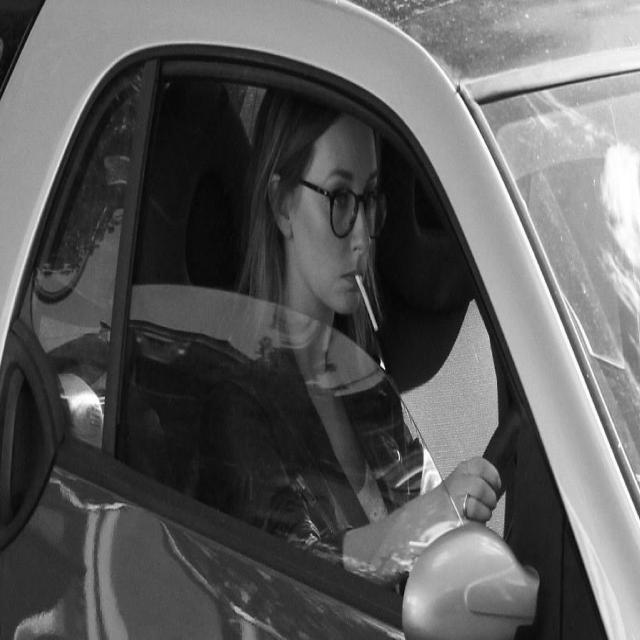Cigarette: (352, 272, 385, 336)
